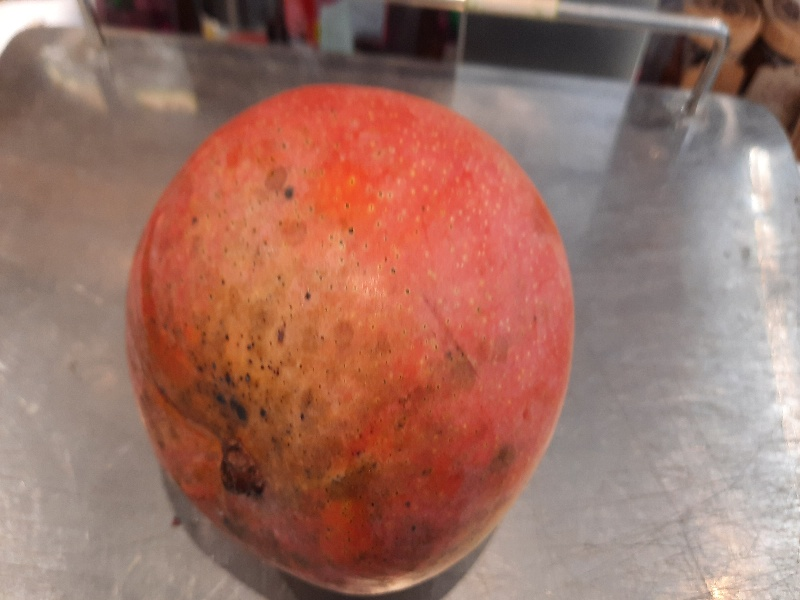fruit: (116, 78, 578, 597)
